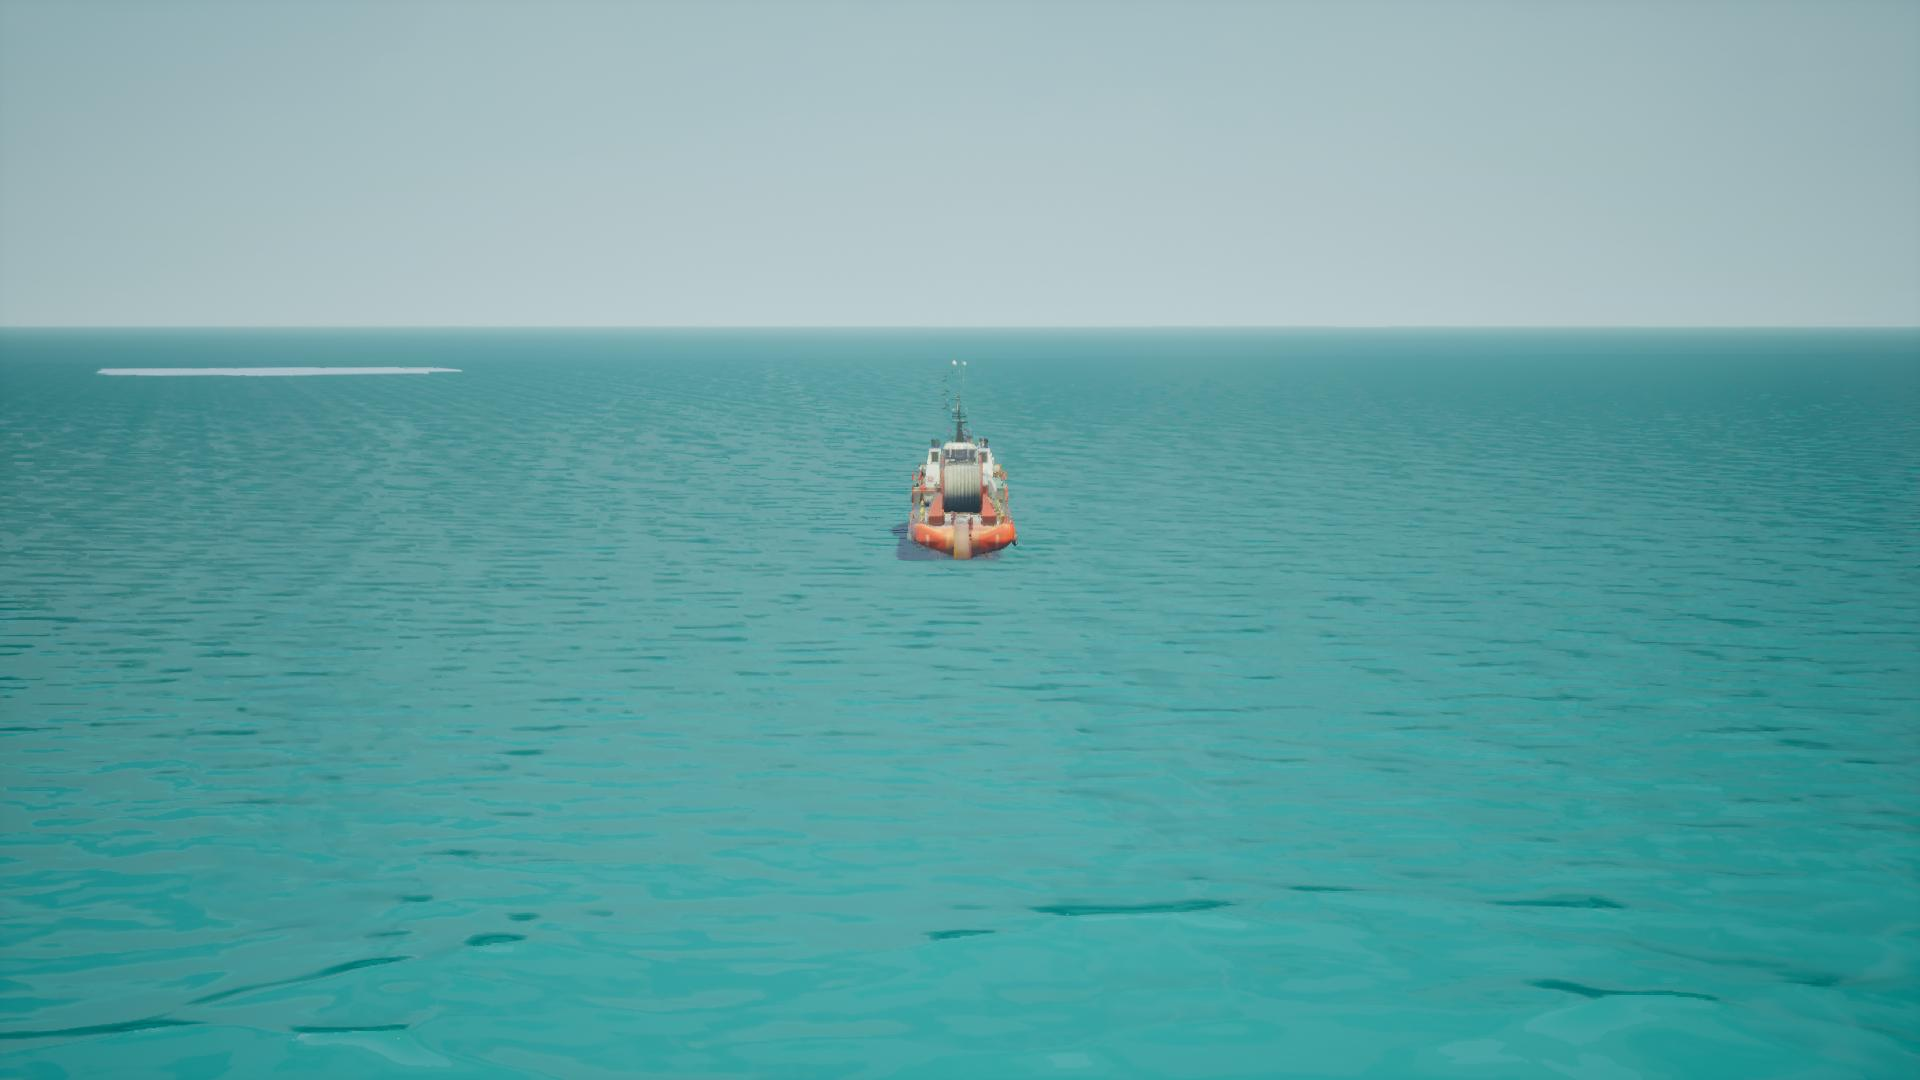Tug Boat: (899, 361, 1014, 562)
